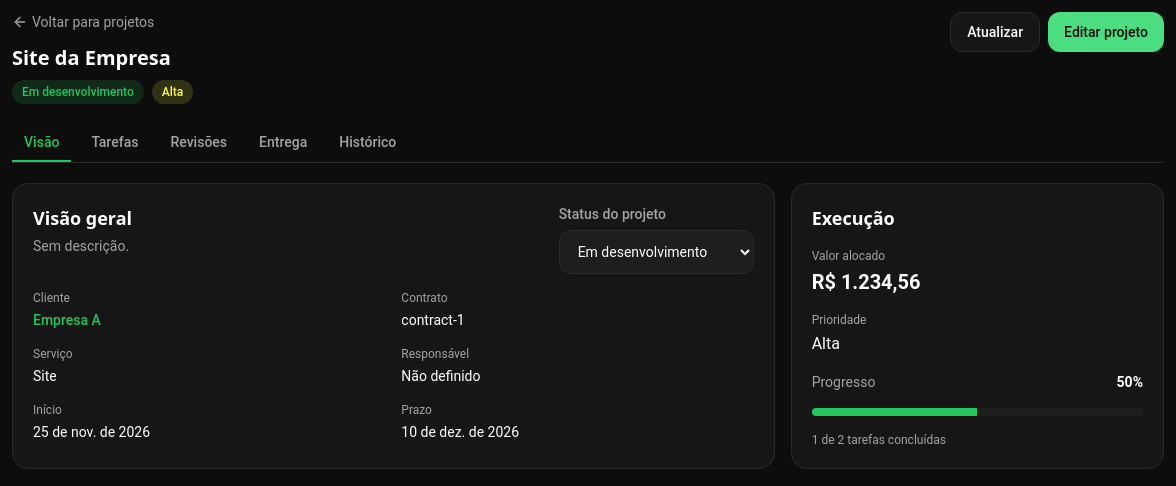
ProjectDetailPage › preserva o snapshot durante o refresh e aplica a resposta confirmada
Click the button "Atualizar" at {"x": 995, "y": 32}, box [950,12,1040,52]
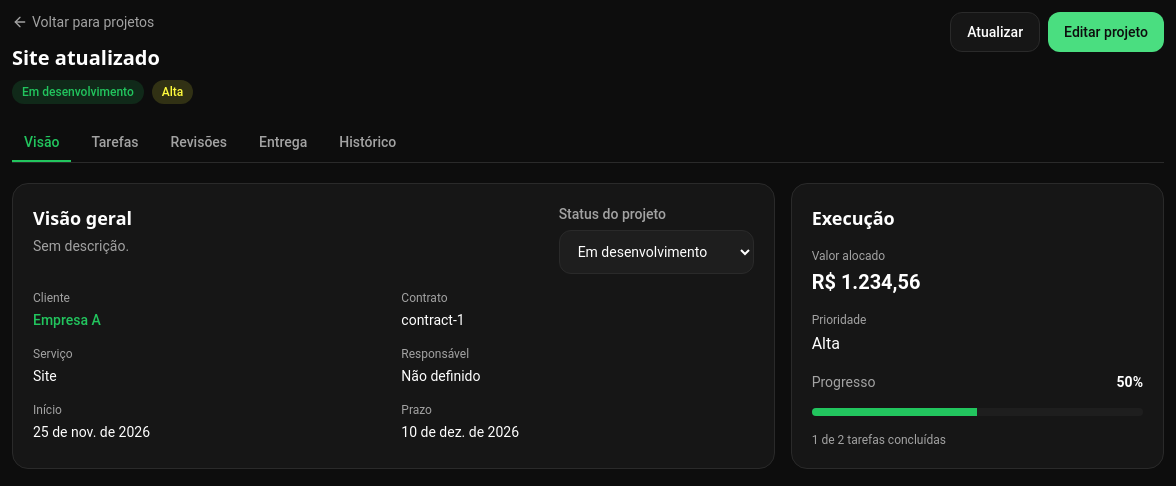
Result: the heading "Site atualizado" is shown at [12,44,160,71]
